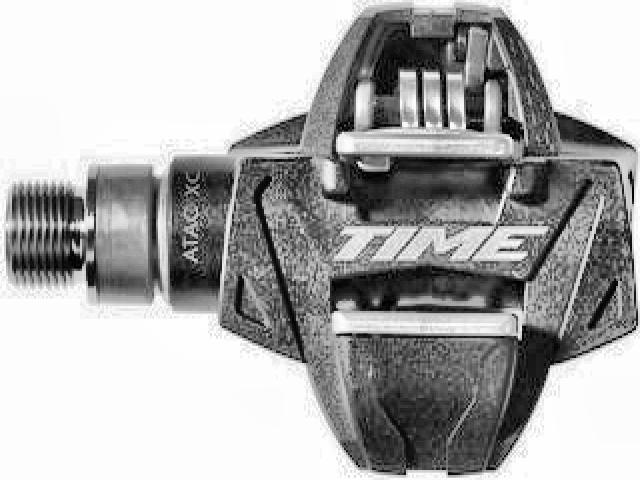pedal: (4, 2, 640, 480)
